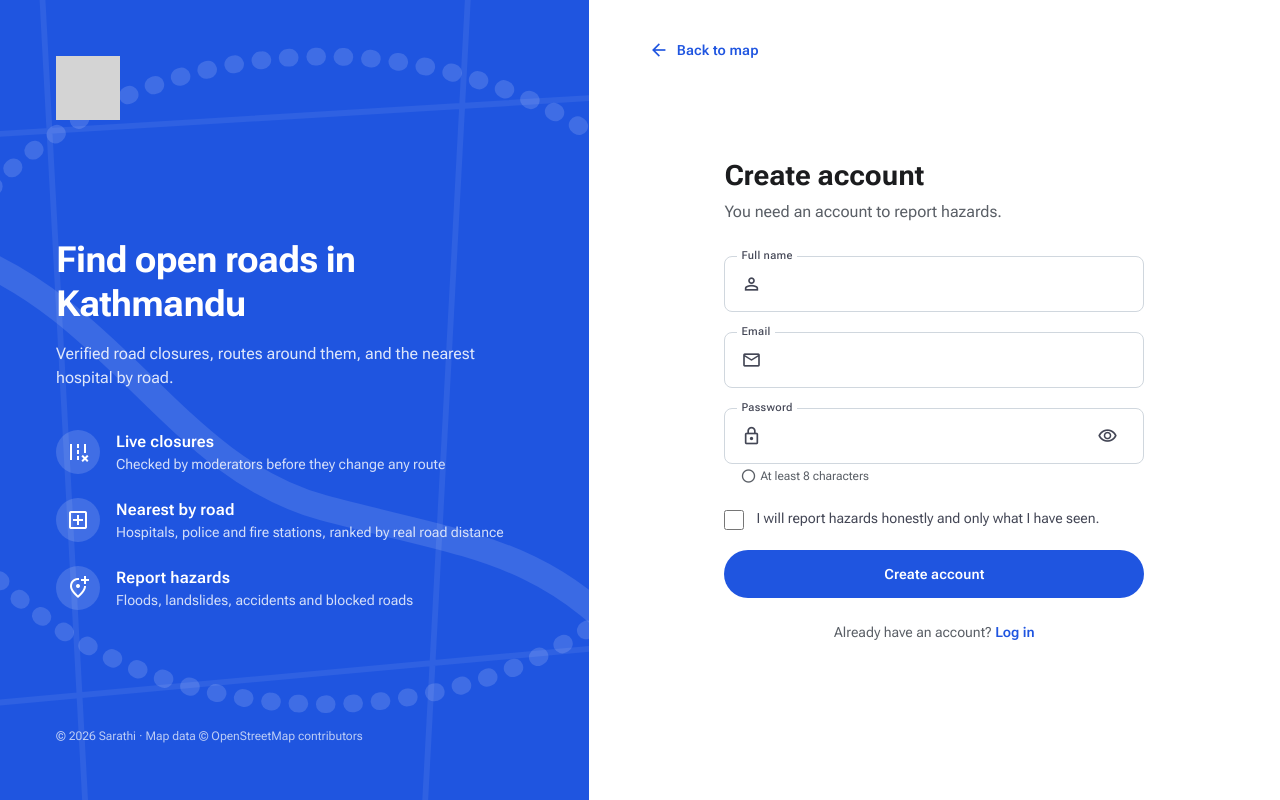
Test: sign up › checks the form before sending it
Type "short" into the password field labelled "Password" at point(924, 436), box [773, 409, 1075, 463]
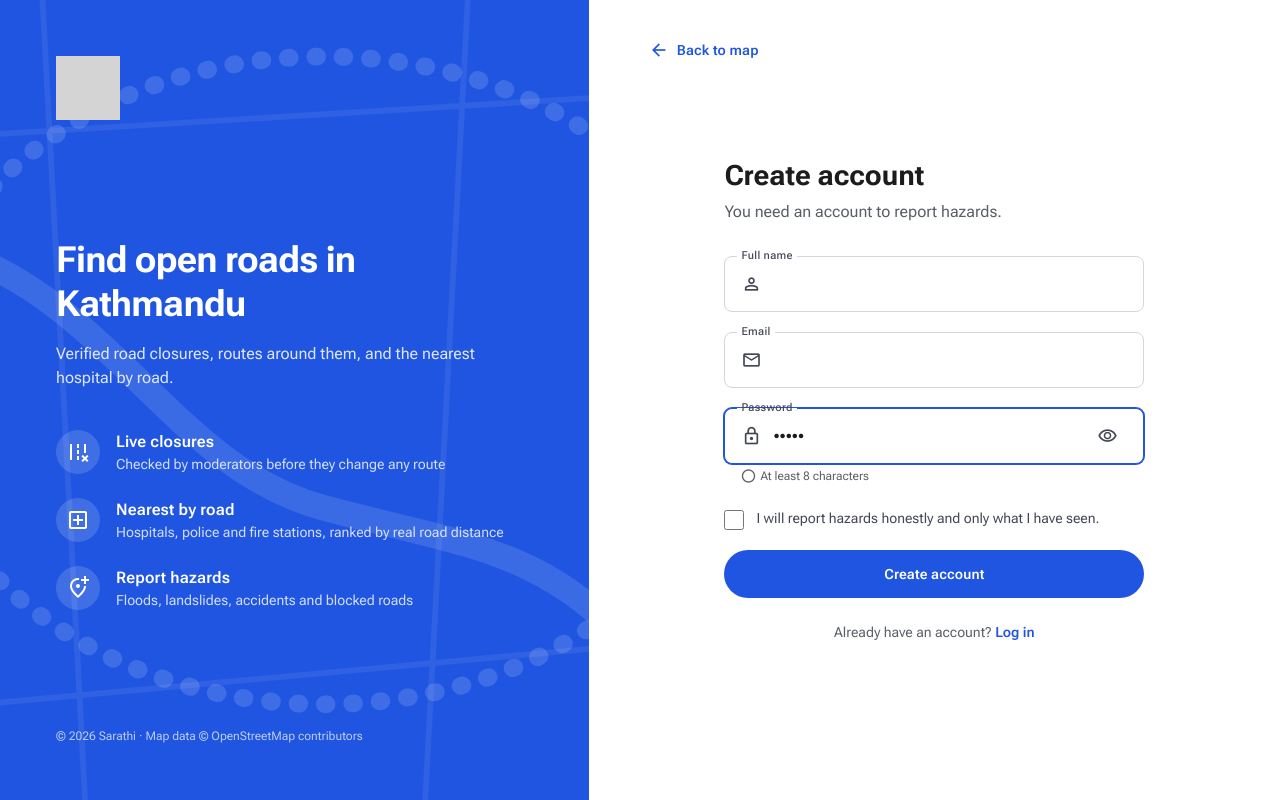
Click the button "Create account" at point(934, 574), box [724, 550, 1144, 598]
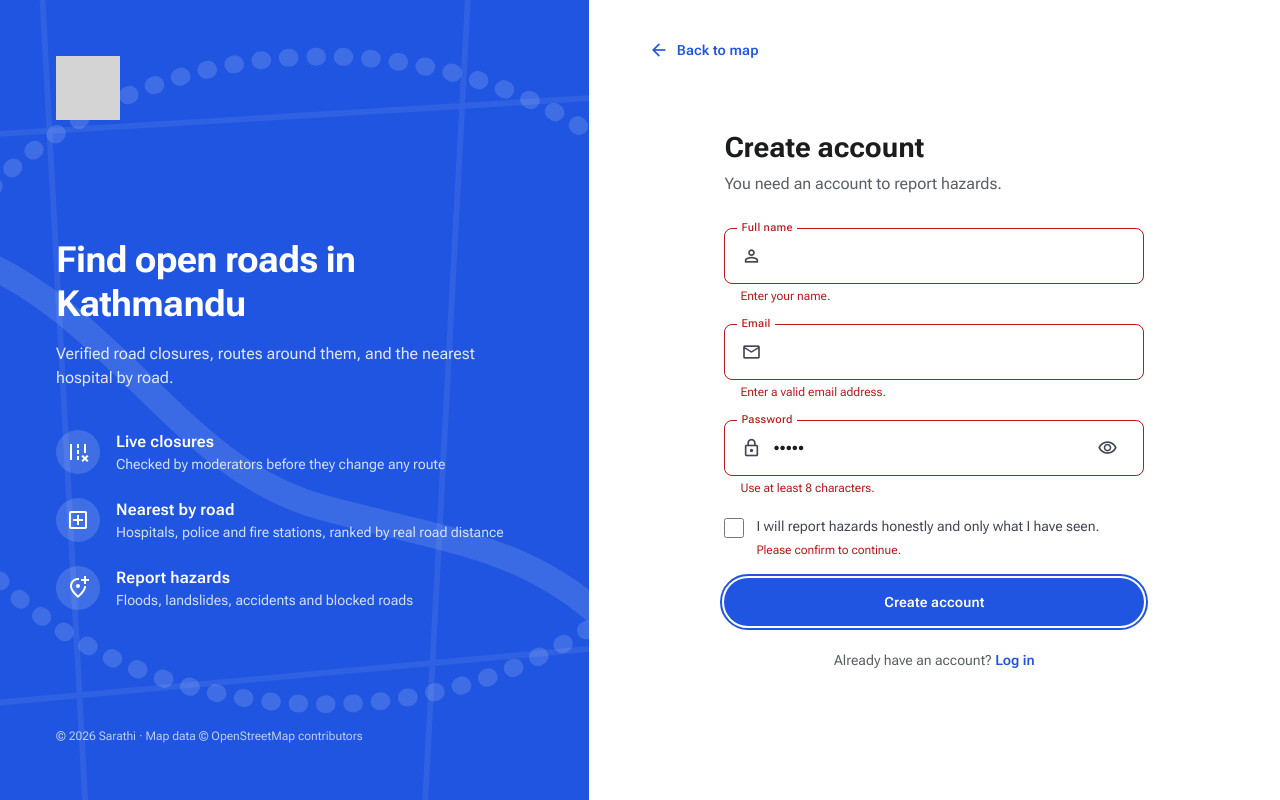
Now the text "Enter your name." is shown, box [740, 289, 830, 303]
Now the text "Enter a valid email address." is shown, box [740, 385, 886, 399]
Now the text "Use at least 8 characters." is shown, box [740, 481, 875, 495]
